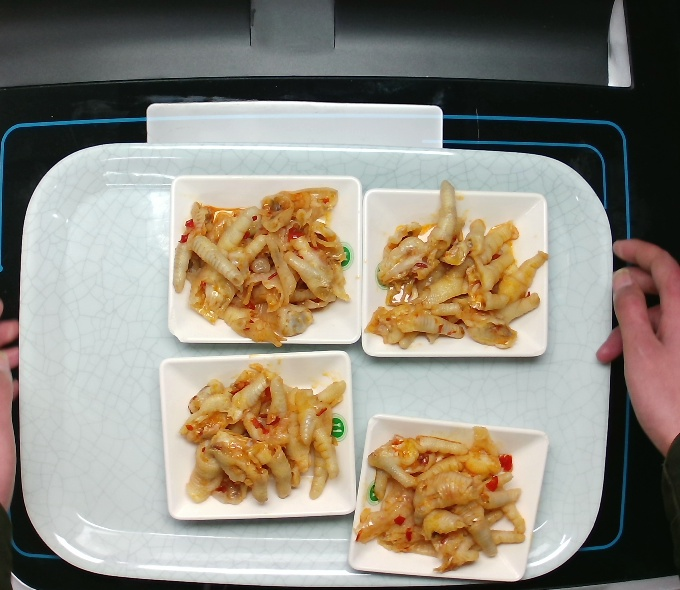wcq-LuJiZhua: (367, 172, 558, 359), (165, 178, 361, 348), (165, 347, 353, 517), (349, 409, 537, 575)
